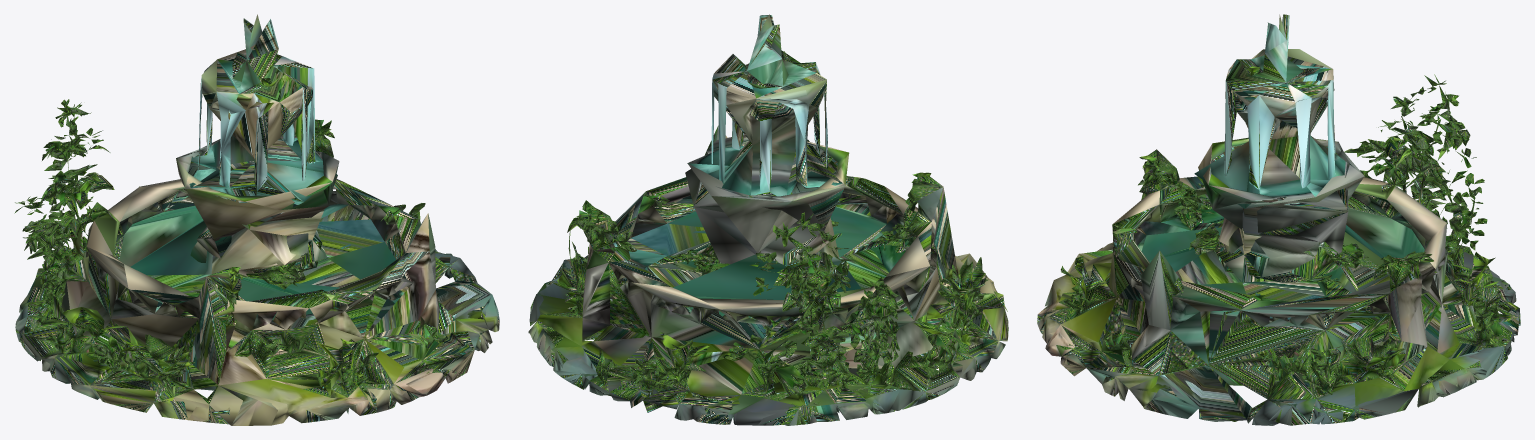
Rendered from Verdant_Cascade_Fount.glb.
3 views of the same model, side by side, from view 1: azimuth 30°, elevation 25°; view 2: azimuth 150°, elevation 25°; view 3: azimuth 270°, elevation 25° (orthographic).
Visible parts, largest first — view 1: Verdant_Cascade_Fount; view 2: Verdant_Cascade_Fount; view 3: Verdant_Cascade_Fount.
Part boxes in pixels (bbox=[...]): Verdant_Cascade_Fount: bbox=[14, 14, 499, 425]; Verdant_Cascade_Fount: bbox=[528, 14, 1008, 425]; Verdant_Cascade_Fount: bbox=[1037, 14, 1520, 425].
Bounding box in the file's own units: 1.89 × 1.36 × 1.89.
1 material, 1 textured.
